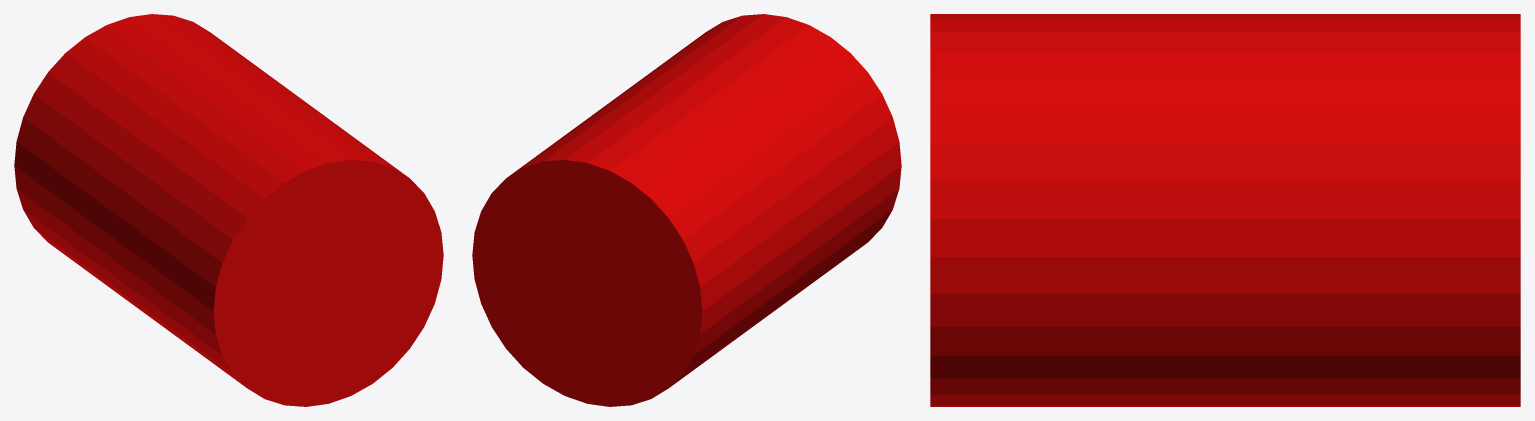
3 renders of one model, left to right at view 1: azimuth 30°, elevation 25°; view 2: azimuth 150°, elevation 25°; view 3: azimuth 270°, elevation 25°, orthographic. The views are drawn at different scales.
Size of the model in its own units: 0.2 by 0.2 by 0.3.
